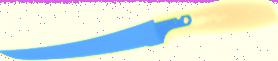Knife: (1, 1, 277, 60)
